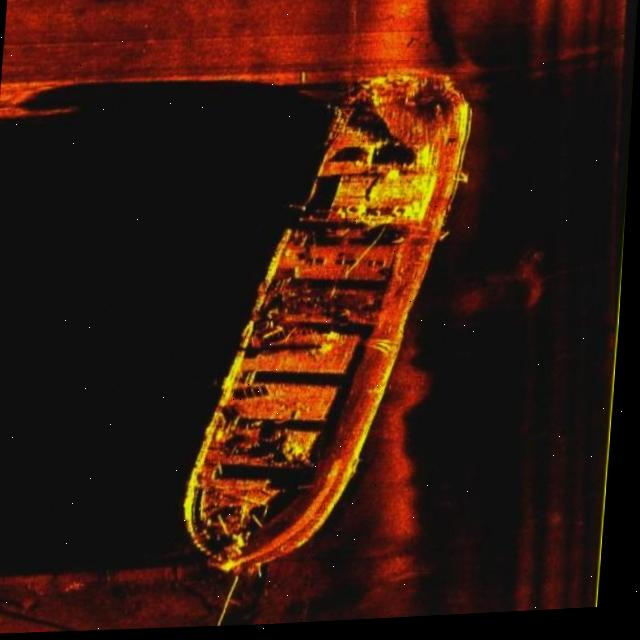shipwreck: (182, 65, 482, 583)
